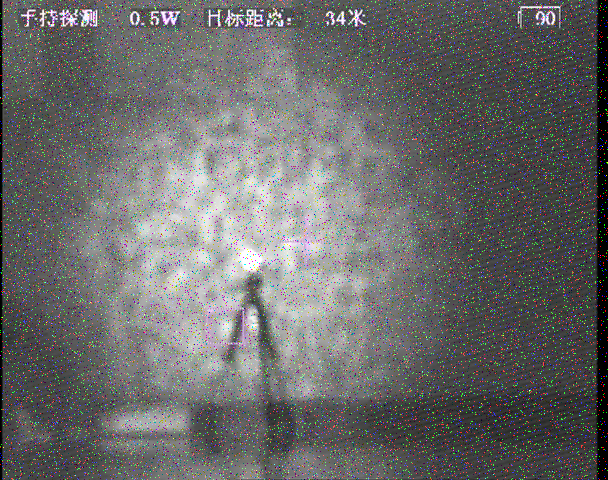my: (238, 248, 262, 274)
